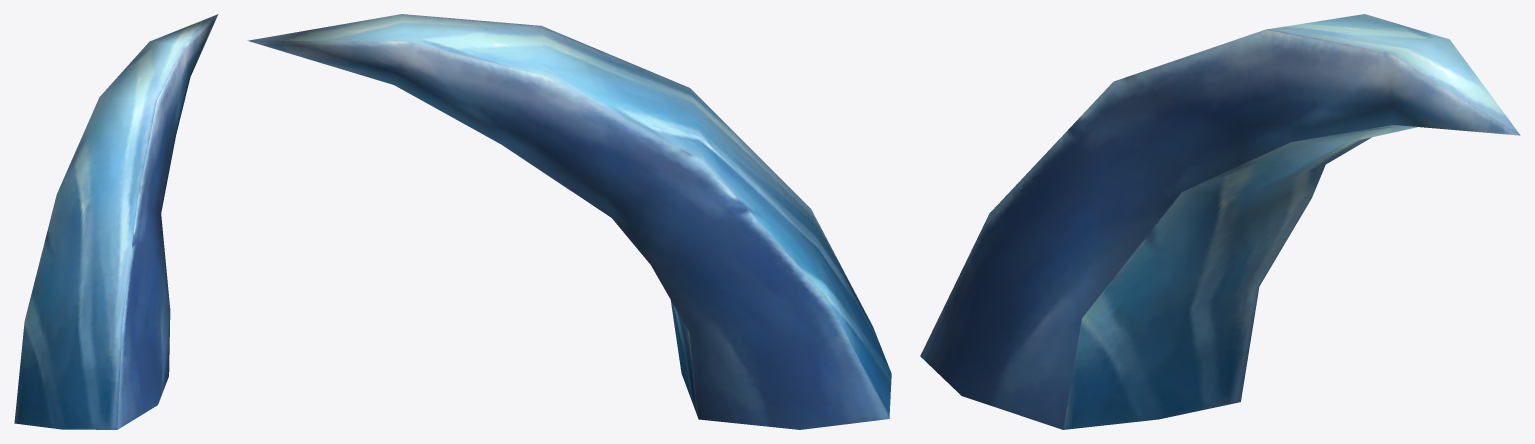
The model's file is SM_crystal_04.fbx.
The picture shows the model from 3 angles, left to right: view 1: azimuth 30°, elevation 25°; view 2: azimuth 150°, elevation 25°; view 3: azimuth 270°, elevation 25°; orthographic projection. The views are drawn at different scales.
Parts seen in each view (by area): view 1: SM_crystal_04; view 2: SM_crystal_04; view 3: SM_crystal_04.
Part boxes in pixels (<box>): SM_crystal_04: <box>14,14,218,429</box>; SM_crystal_04: <box>247,14,891,429</box>; SM_crystal_04: <box>920,14,1520,429</box>.
Size of the model in its own units: 2.21 by 1.76 by 1.9.
